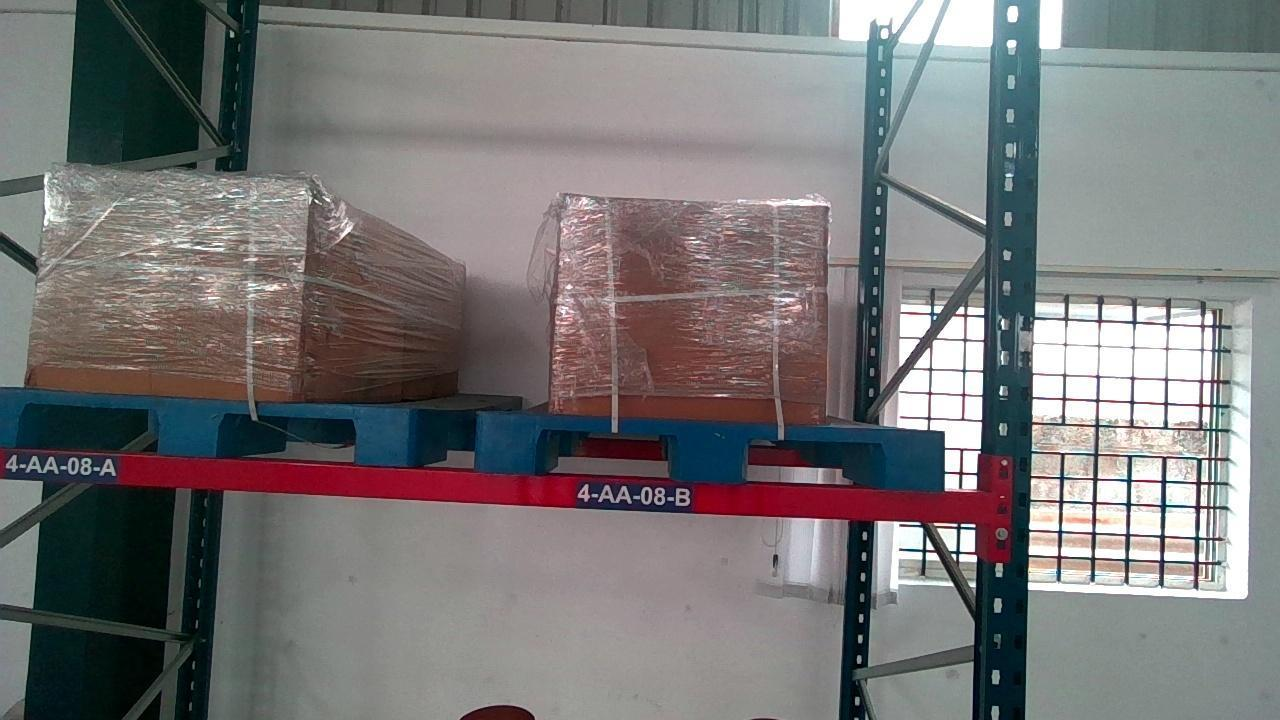h_rack: (0, 447, 997, 523)
small_pallet: (479, 416, 945, 481), (0, 402, 413, 466)
